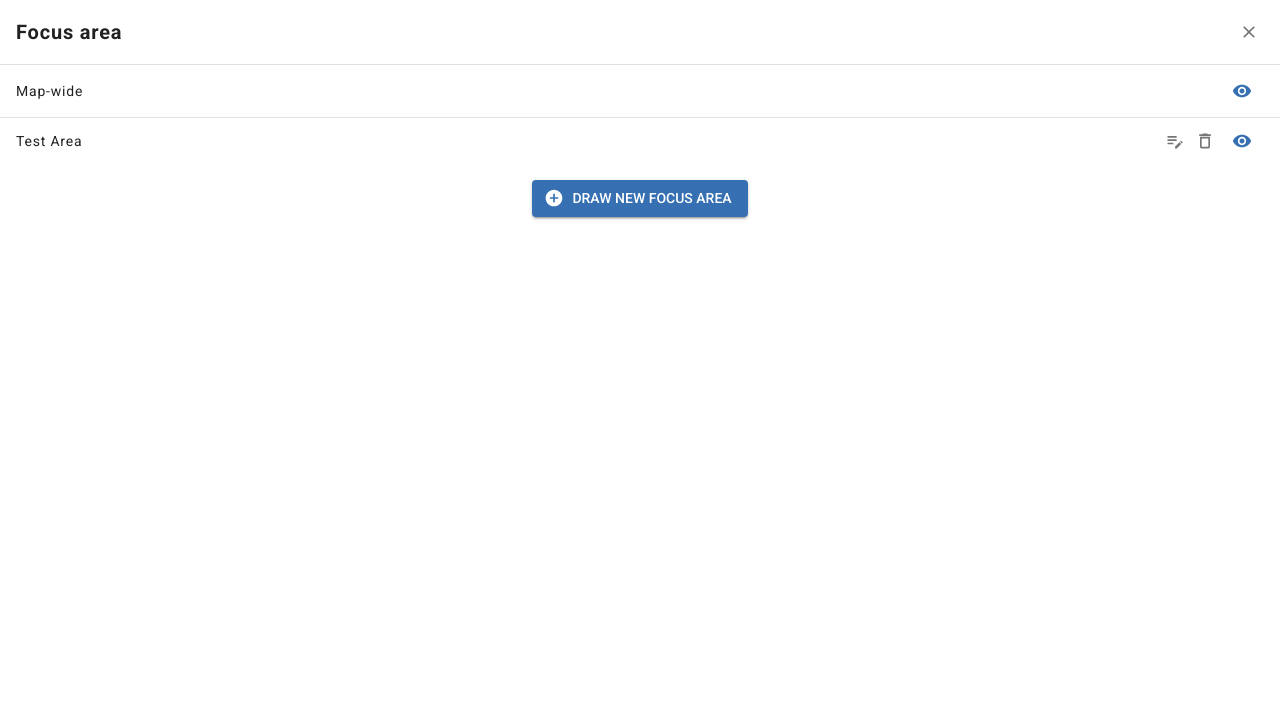
Test: FocusAreaView › Delete Confirmation Dialog › closes dialog when cancel is clicked
This screenshot has width=1280, height=720.
Expected: the text "Test Area" is shown, [16,133,82,149]
Click the button named "Delete focus area": (1205, 141) [1190,126,1220,156]
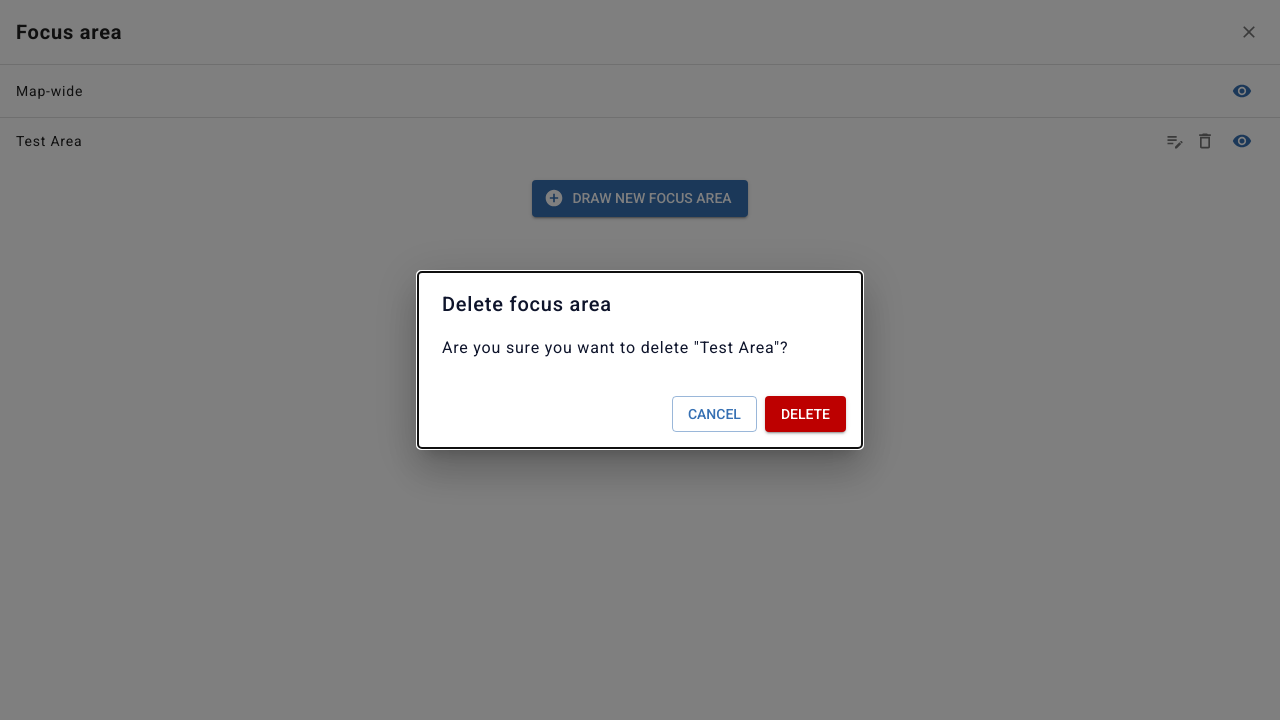
Result: the button "CANCEL" is shown
Click the button "CANCEL": (714, 414) [672,396,757,432]
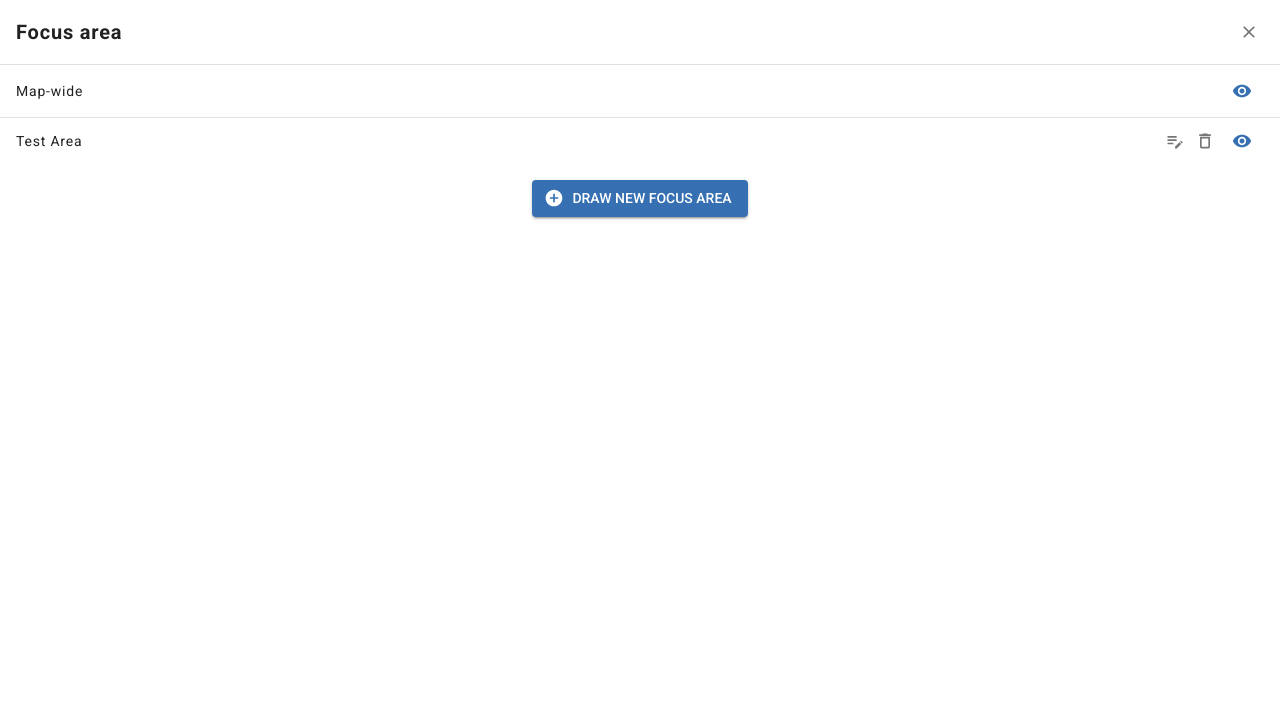
Result: the text "Are you sure you want to delete \"Test Area\"?" is gone
